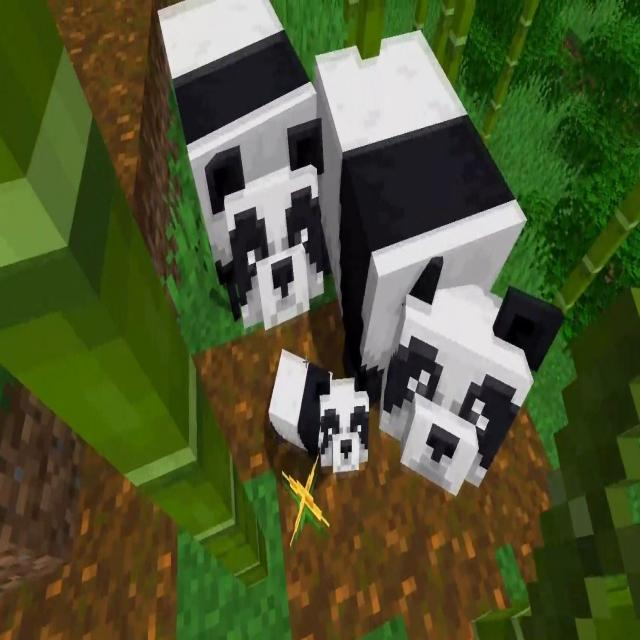Panda: (315, 26, 566, 503), (154, 3, 326, 332), (264, 342, 375, 479)
